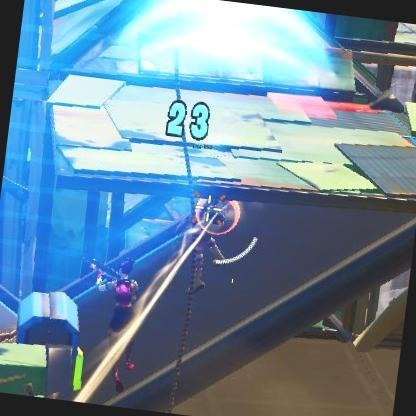person: (95, 254, 148, 378), (186, 202, 240, 298)
